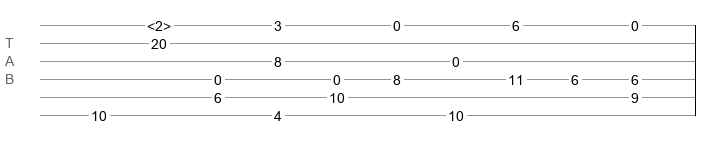0: (214, 72, 222, 82), (333, 72, 341, 82), (393, 18, 401, 28), (452, 54, 460, 64), (631, 18, 639, 28)
10: (91, 108, 107, 118), (329, 90, 345, 100), (448, 108, 464, 118)
11: (508, 72, 524, 82)
20: (151, 36, 167, 46)
3: (274, 18, 282, 28)
4: (274, 108, 282, 118)
6: (214, 90, 222, 100), (512, 18, 520, 28), (571, 72, 579, 82), (631, 72, 639, 82)
8: (274, 54, 282, 64), (393, 72, 401, 82)
9: (631, 90, 639, 100)
harmonic: (147, 18, 171, 28)
